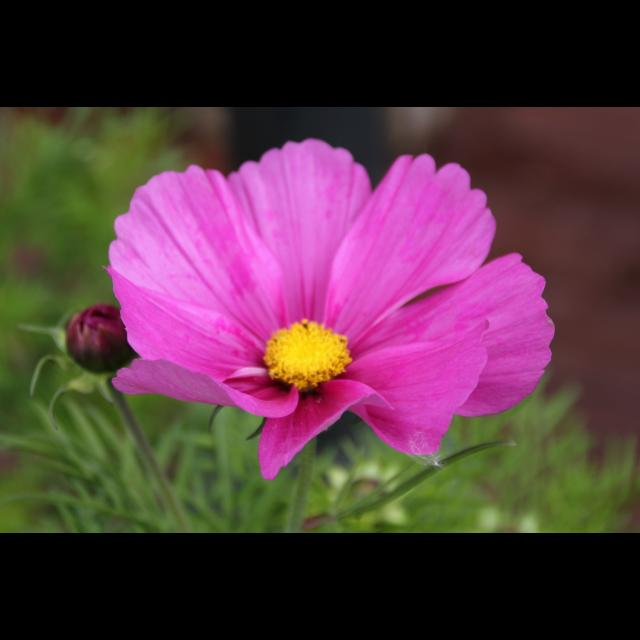Flower: (70, 140, 554, 490), (66, 304, 138, 376)
